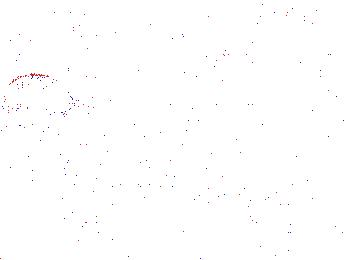moon jellyfish: (197, 39, 293, 109), (249, 23, 334, 76), (99, 21, 182, 68), (13, 24, 94, 71), (1, 73, 75, 114)
